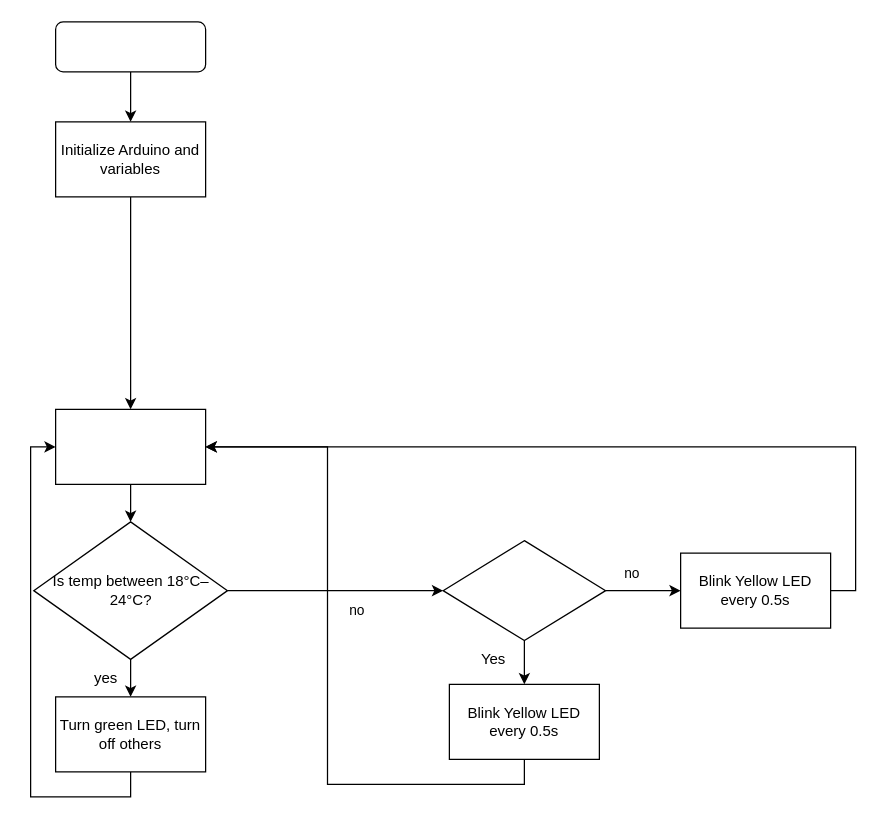
The diagram is 888 pixels wide and 829 high, and some of its shapes have lost their labels. The shapes that lost their labels are listed below. From the top down, each one's centre as x and y in pixels, then its label:
(x=130, y=46): Start program
(x=130, y=446): Read temperature
(x=524, y=590): Is temp<18°C？
